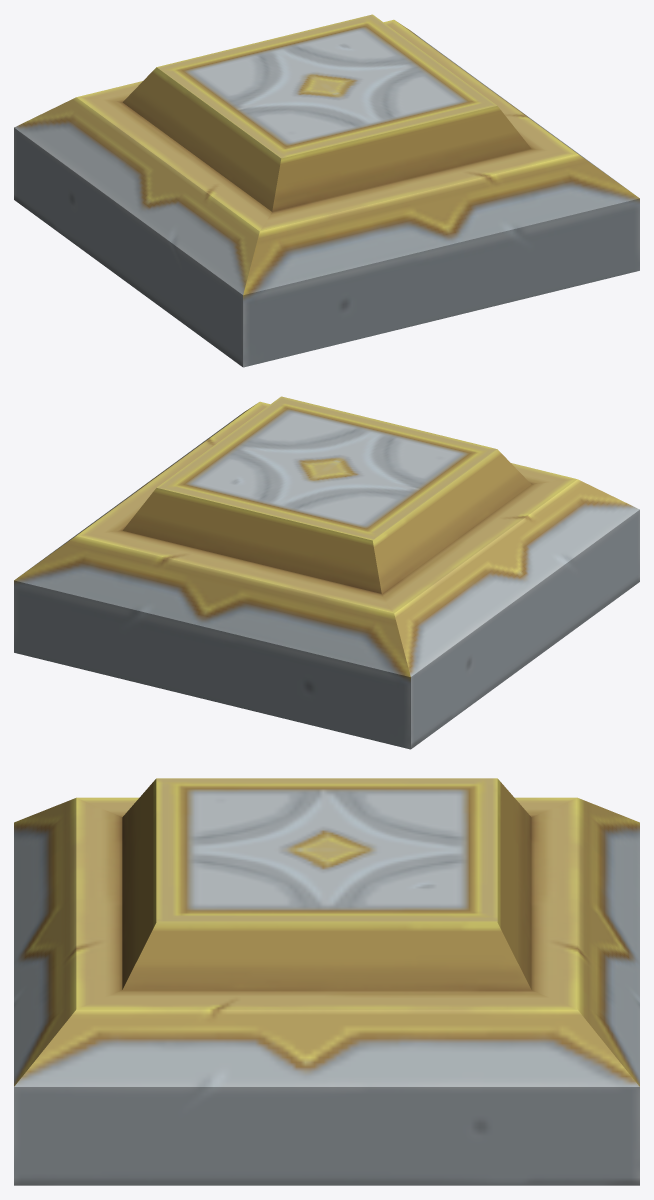
Rendered from W3_HD_GongHuiBoss_bianzhu_01_03_D.FBX.
3 views of the same model, one above another, from view 1: azimuth 30°, elevation 25°; view 2: azimuth 150°, elevation 25°; view 3: azimuth 270°, elevation 25° (orthographic). The views are drawn at different scales.
Parts seen in each view (by area): view 1: W3_HD_GongHuiBoss_bianzhu_01_03_D; view 2: W3_HD_GongHuiBoss_bianzhu_01_03_D; view 3: W3_HD_GongHuiBoss_bianzhu_01_03_D.
Part boxes in pixels (box(x1,y1,x2,y2)): W3_HD_GongHuiBoss_bianzhu_01_03_D: box(14, 14, 639, 367); W3_HD_GongHuiBoss_bianzhu_01_03_D: box(14, 396, 639, 749); W3_HD_GongHuiBoss_bianzhu_01_03_D: box(14, 778, 639, 1185).
Size of the model in its own units: 1.44 by 0.5154 by 1.44.
